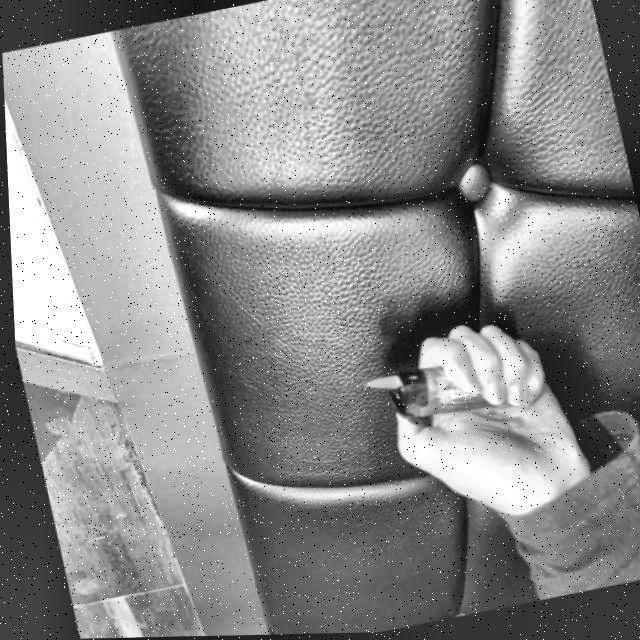Fire: (358, 375, 399, 394)
